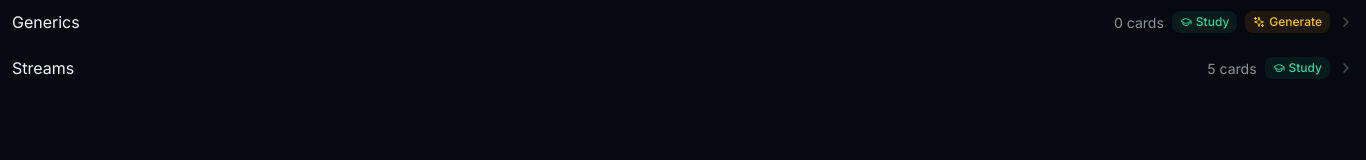
Test: TopicTree - Generate Cards › shows error message on failure
The image size is (1366, 160).
Click the button "Generate": (1288, 22) [1245,11,1330,33]
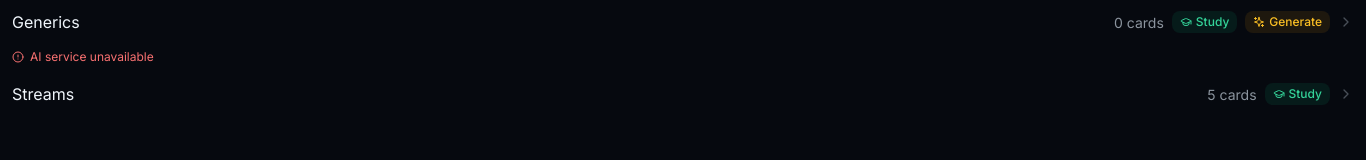
expect the text "AI service unavailable" is shown: met, box [30,48,154,66]
